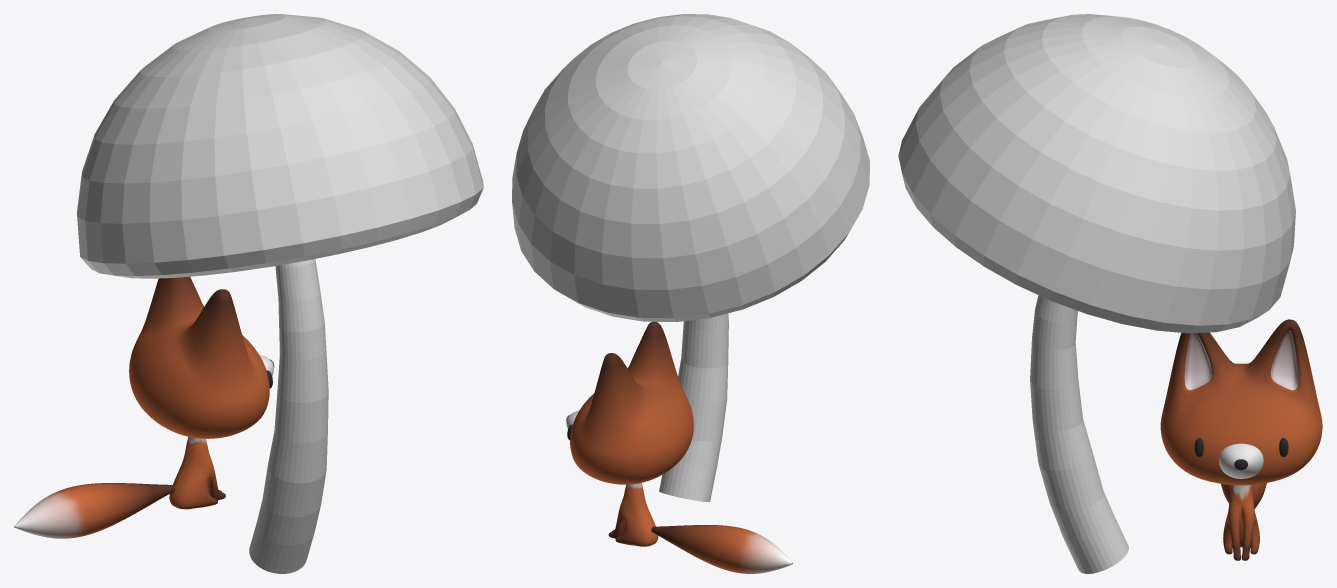
Rendered from fox2.glb.
3 views of the same model, side by side, from view 1: azimuth 30°, elevation 25°; view 2: azimuth 150°, elevation 25°; view 3: azimuth 270°, elevation 25° (orthographic). The views are drawn at different scales.
Parts seen in each view (by area): view 1: Sphere, FOX, Cylinder, tail, body; view 2: Sphere, FOX, Cylinder, tail, body; view 3: Sphere, FOX, Cylinder, body, mouse.
Part boxes in pixels (left/top/right/bottom): Sphere: left=77, top=14, right=483, bottom=278; FOX: left=129, top=276, right=269, bottom=438; Cylinder: left=249, top=259, right=328, bottom=573; tail: left=14, top=483, right=174, bottom=538; body: left=169, top=436, right=225, bottom=509; Sphere: left=512, top=14, right=869, bottom=321; FOX: left=570, top=321, right=693, bottom=484; Cylinder: left=659, top=313, right=728, bottom=501; tail: left=651, top=525, right=792, bottom=573; body: left=608, top=483, right=658, bottom=546; Sphere: left=898, top=14, right=1295, bottom=333; FOX: left=1160, top=319, right=1322, bottom=485; Cylinder: left=1030, top=295, right=1128, bottom=573; body: left=1223, top=485, right=1259, bottom=560; mouse: left=1219, top=443, right=1263, bottom=478.
Size of the model in its own units: 4.96 by 6.88 by 4.96.
5 materials, 3 textured.
